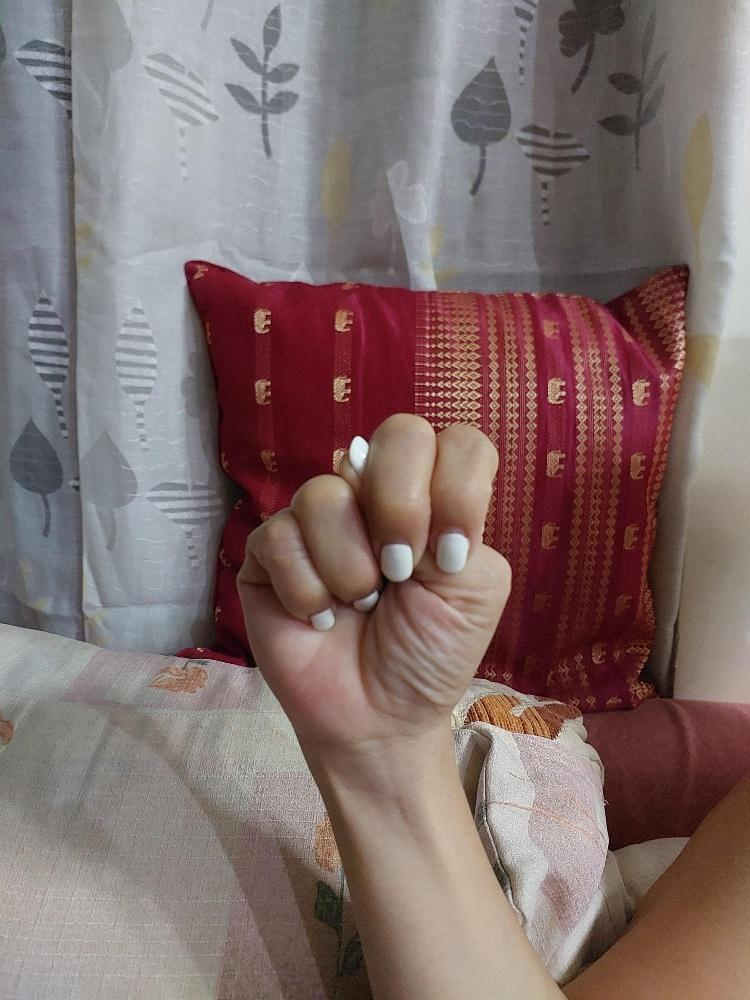n: (235, 406, 514, 743)
